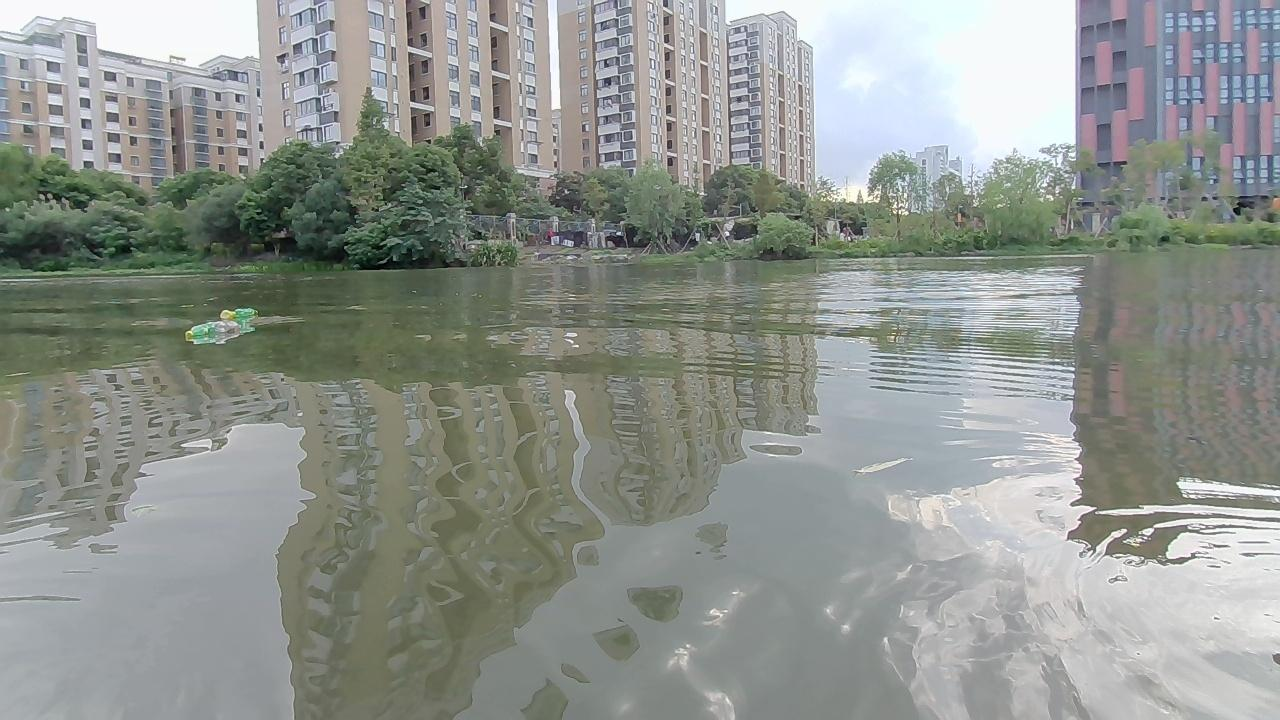bottle: (184, 322, 225, 340), (214, 322, 242, 342), (234, 307, 266, 320), (218, 307, 232, 317)
